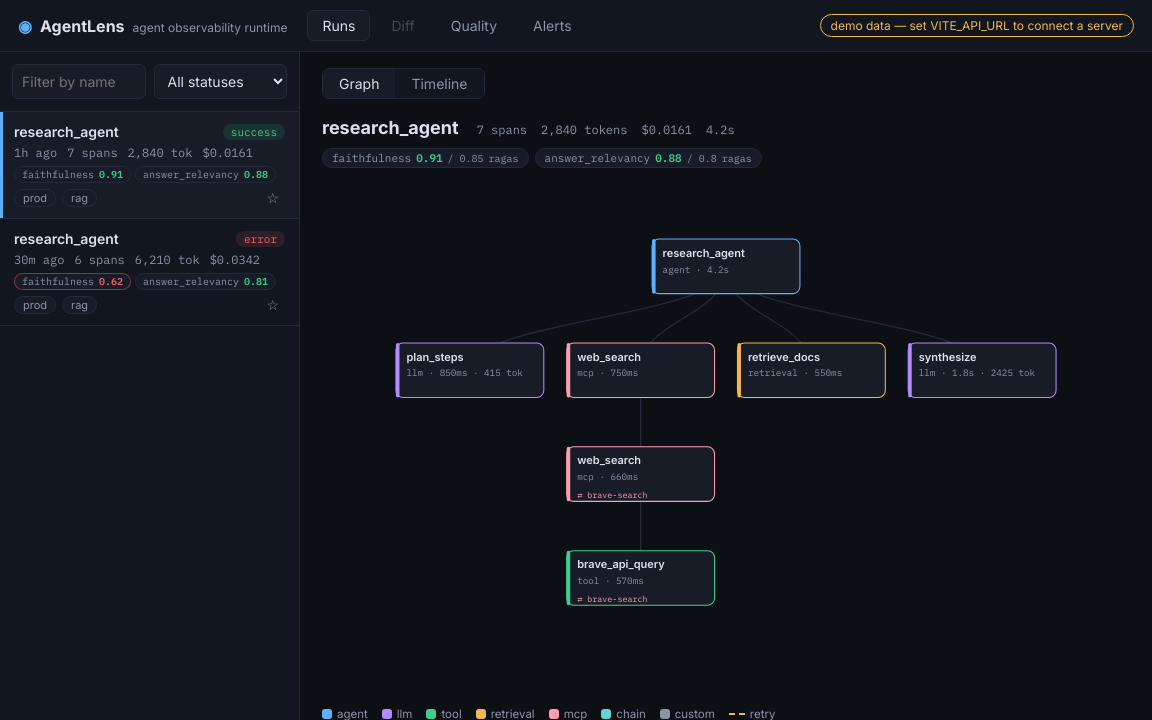
Test: App in demo mode › switches between graph and timeline
Check: the icon that starts with "research_agent" is shown, box [322,182,1130,694]
Click the button "Timeline": (439, 84) [395,69,484,98]
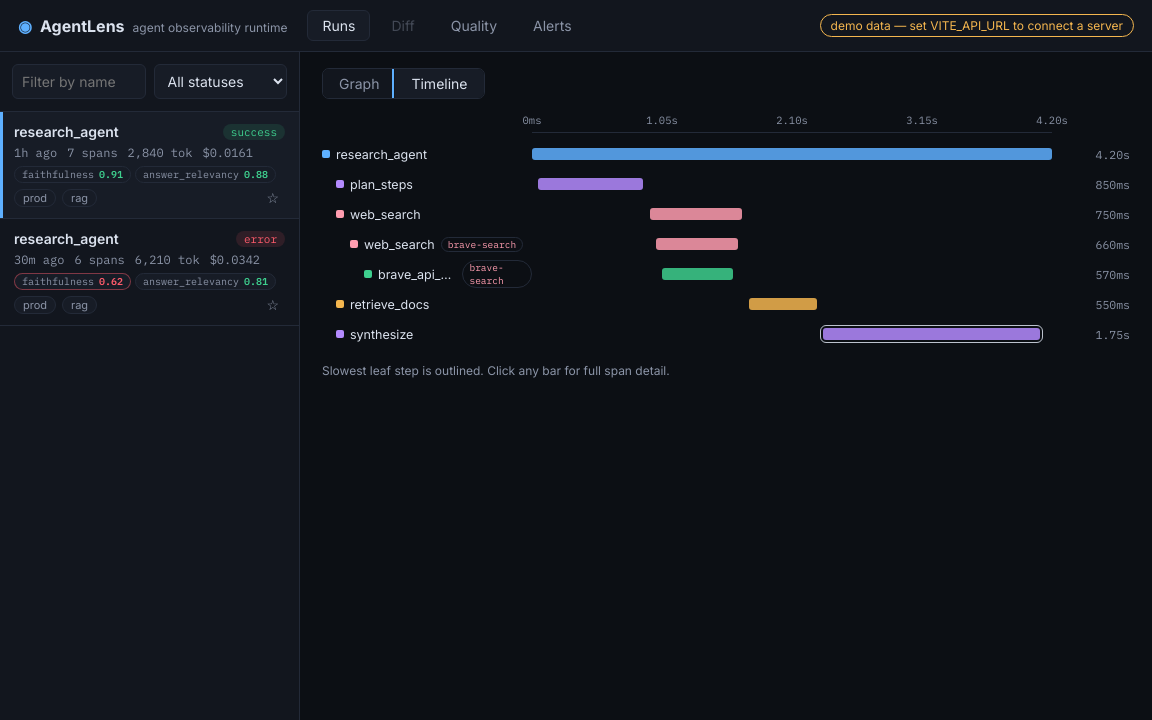
Check: the element with class "tl-row" showing "research_agent 4.20s" is shown, box [322,146,1130,162]
